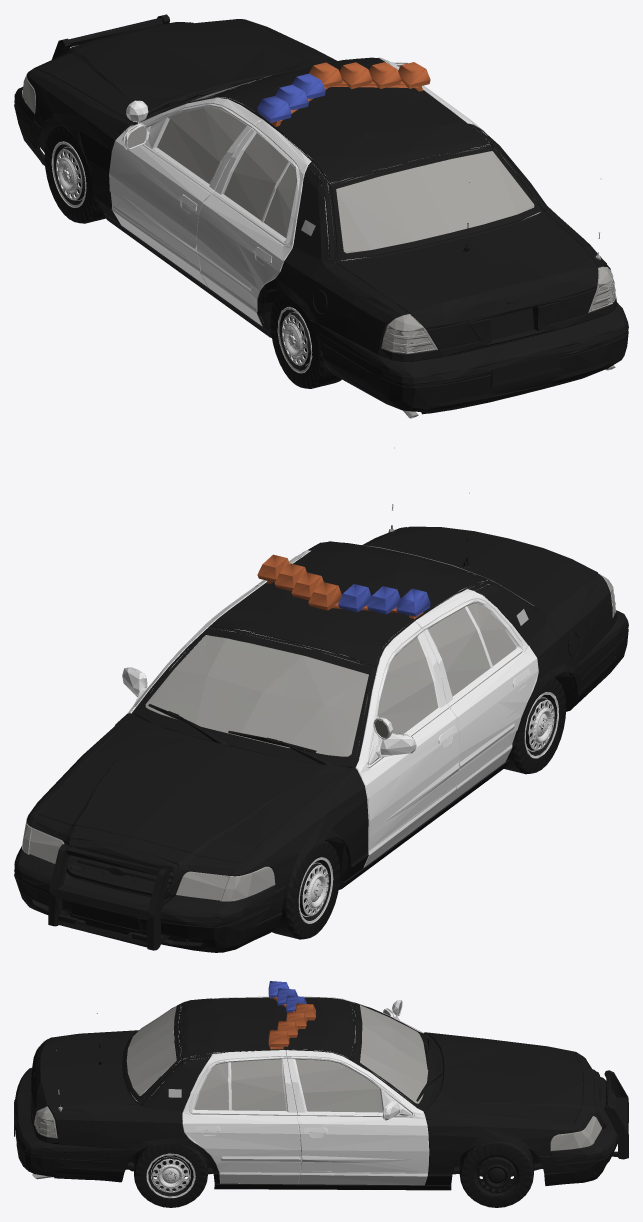
File: FordCrownVictoriaPolice.fbx
3 renders of one model, top to bottom at view 1: azimuth 30°, elevation 25°; view 2: azimuth 150°, elevation 25°; view 3: azimuth 270°, elevation 25°, orthographic. The views are drawn at different scales.
Visible parts, largest first — view 1: bump_rear_ok, wheel.003, wheel.001; view 2: bump_rear_ok, wheel.001, wheel.003; view 3: bump_rear_ok, wheel, wheel.002.
Boxes of the visible parts, x1,y1,x2,y2 form: bump_rear_ok: (14,14,628,418); wheel.003: (270,292,341,388); wheel.001: (44,124,105,223); bump_rear_ok: (14,447,628,952); wheel.001: (272,840,340,939); wheel.003: (504,677,566,774); bump_rear_ok: (14,981,628,1190); wheel: (459,1141,533,1207); wheel.002: (134,1144,207,1207).
Bounding box in the file's own units: 234 × 169 × 591.
